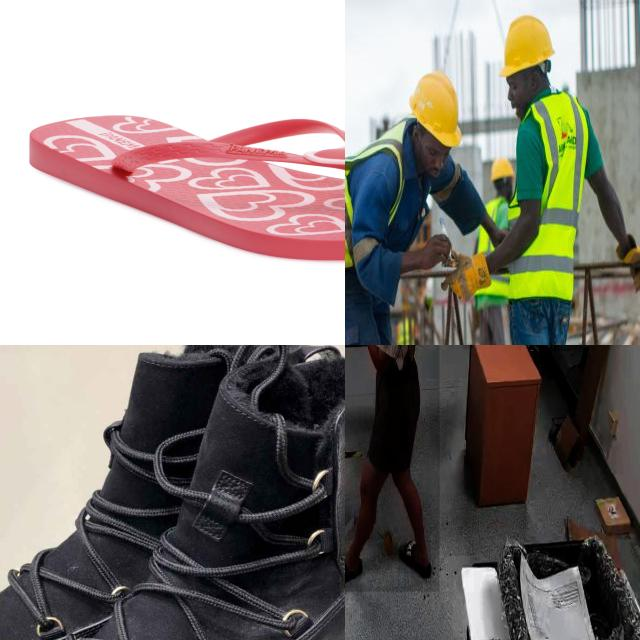Sandals: (0, 345, 345, 640), (26, 112, 345, 262)
hand_glove: (446, 248, 492, 305), (615, 229, 640, 296)
head_helmet: (409, 70, 463, 153), (498, 13, 556, 78), (490, 156, 516, 184)
person: (478, 1, 630, 345), (345, 47, 478, 345), (345, 345, 439, 592)
vest: (507, 91, 590, 302), (345, 115, 405, 271)
